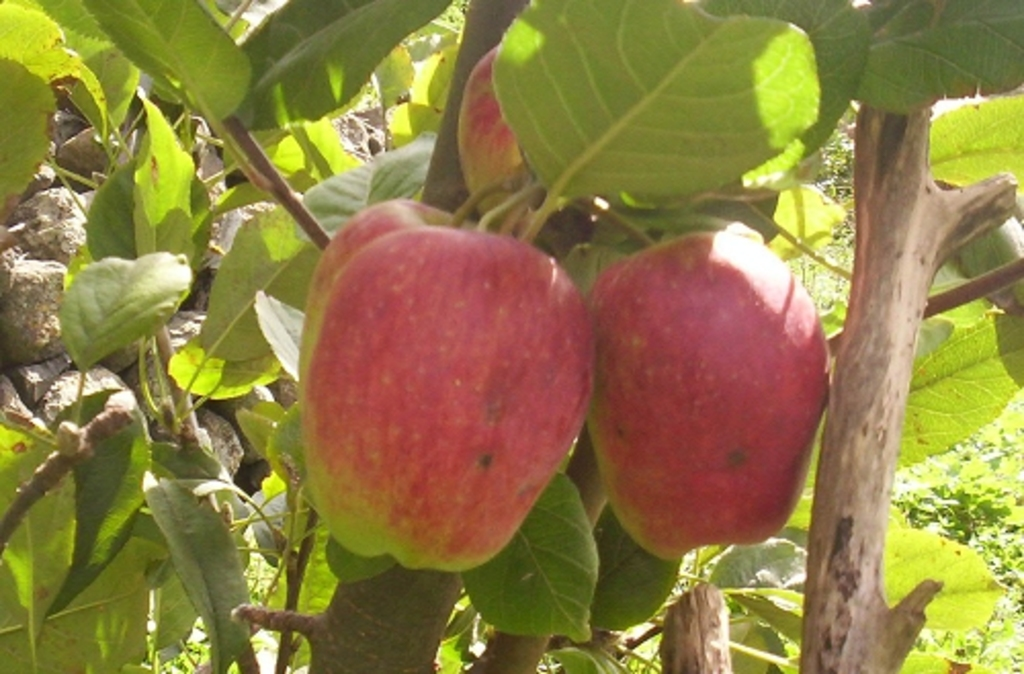Apple: (294, 221, 600, 575), (577, 215, 825, 553), (294, 196, 473, 378), (456, 45, 538, 229)
